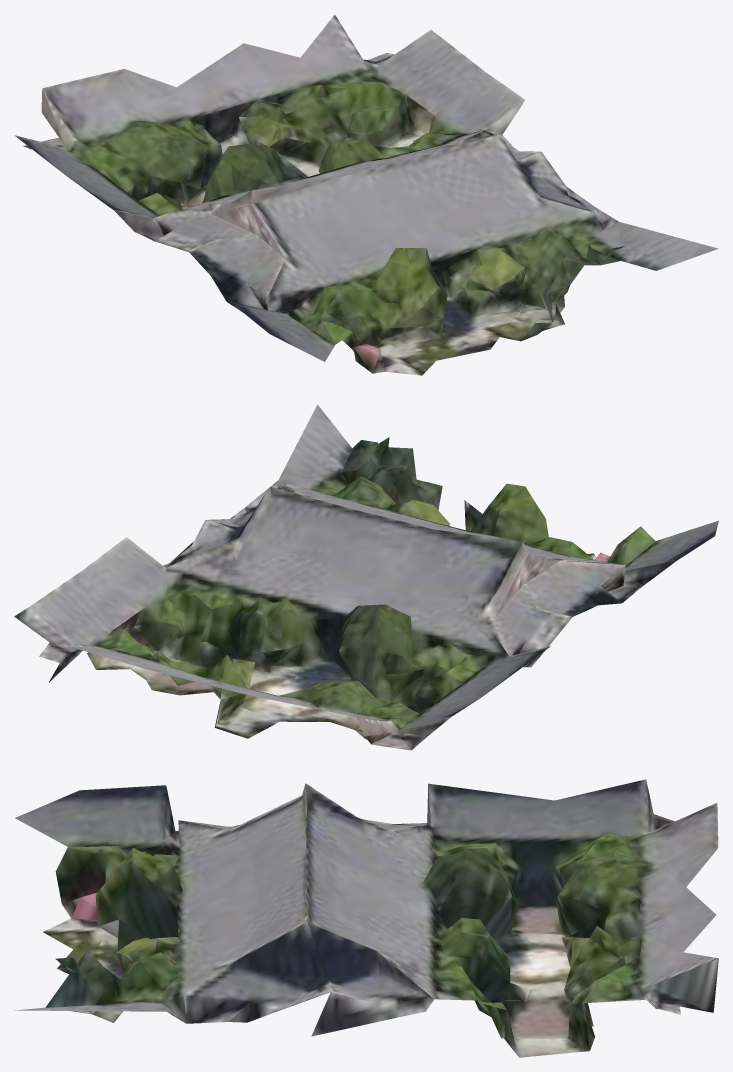
File: Tile_+006_+005_L17_00.glb
3 renders of one model, top to bottom at view 1: azimuth 30°, elevation 25°; view 2: azimuth 150°, elevation 25°; view 3: azimuth 270°, elevation 25°, orthographic. The views are drawn at different scales.
Parts seen in each view (by area): view 1: rtc; view 2: rtc; view 3: rtc.
Boxes of the visible parts, x1,y1,x2,y2 form: rtc: (14,14,718,375); rtc: (14,404,718,750); rtc: (14,779,718,1057).
Bounding box in the file's own units: 45.61 × 11.63 × 59.25.
Materials: 1 (1 with a texture image).
